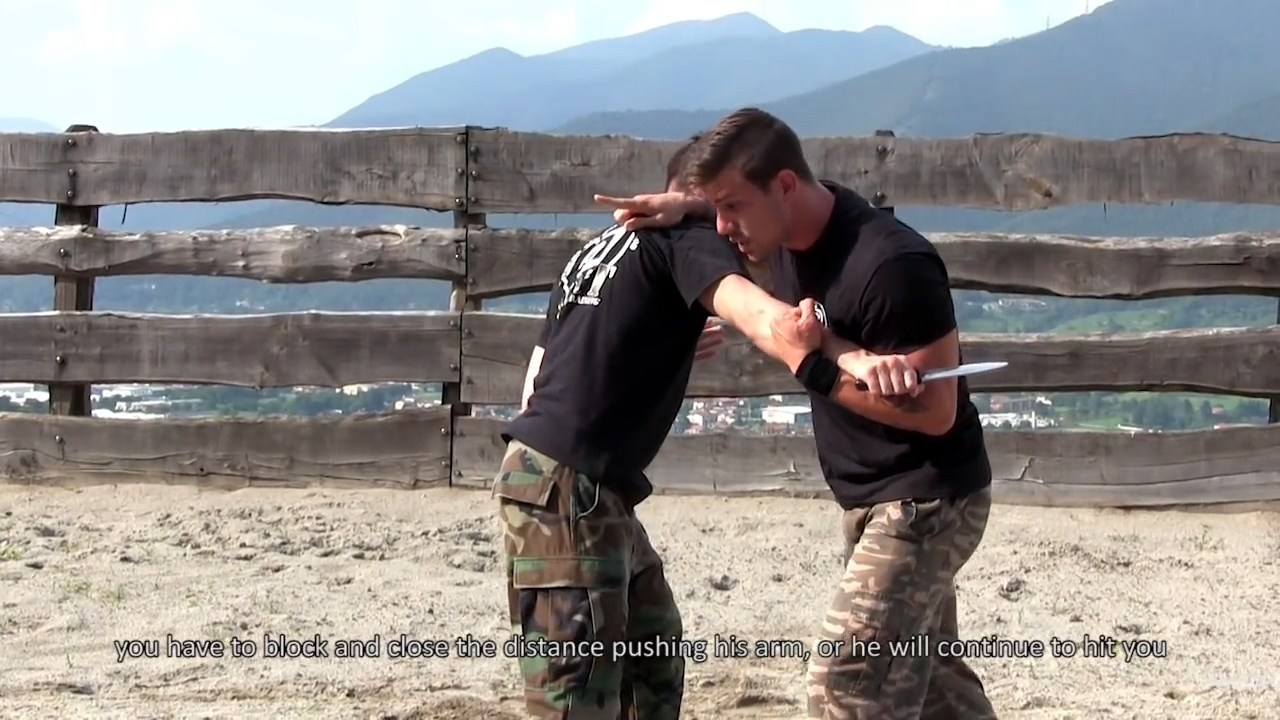knife: (846, 352, 1019, 404)
